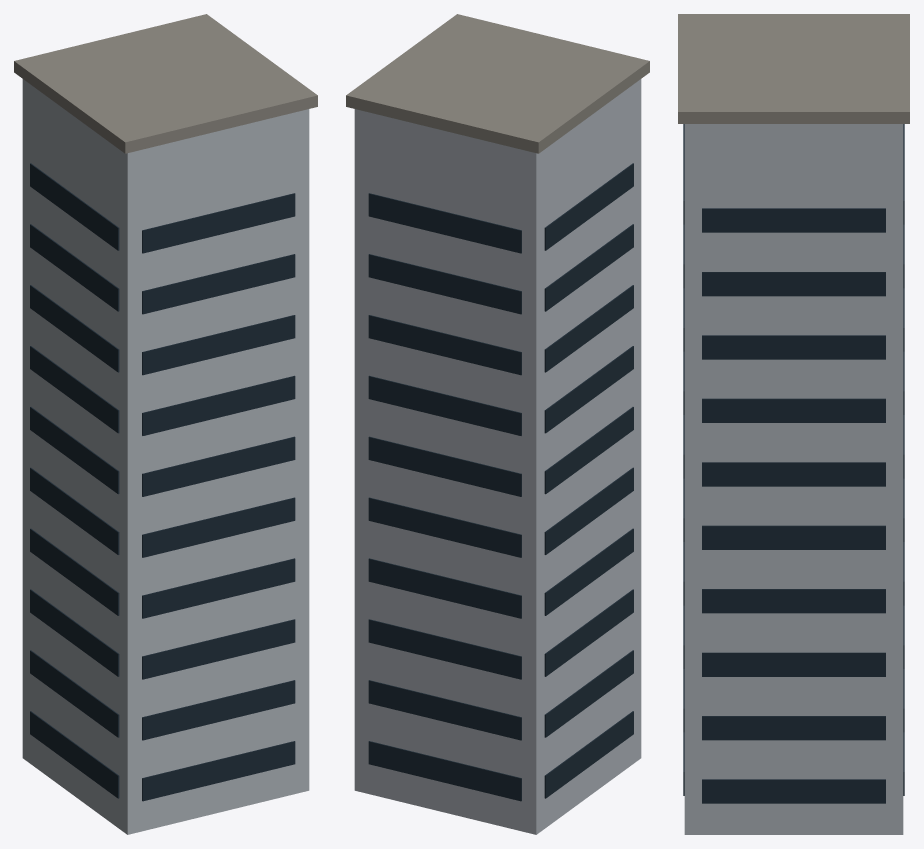
File: Building1.glb
The picture shows the model from 3 angles, left to right: view 1: azimuth 30°, elevation 25°; view 2: azimuth 150°, elevation 25°; view 3: azimuth 270°, elevation 25°; orthographic projection. The views are drawn at different scales.
Visible parts, largest first — view 1: Building1; view 2: Building1; view 3: Building1.
Part boxes in pixels (bbox=[...]): Building1: bbox=[14, 14, 317, 834]; Building1: bbox=[346, 14, 649, 834]; Building1: bbox=[678, 14, 909, 834].
Bounding box in the file's own units: 10.6 × 36.6 × 10.6.
